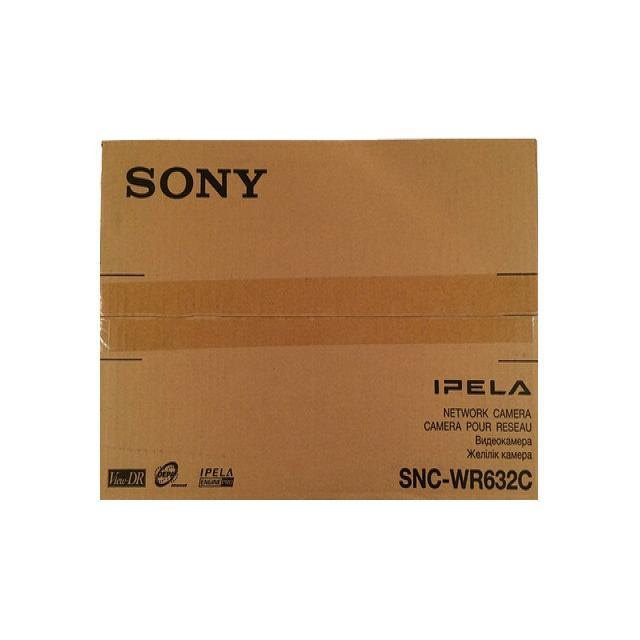box: (100, 140, 534, 495)
